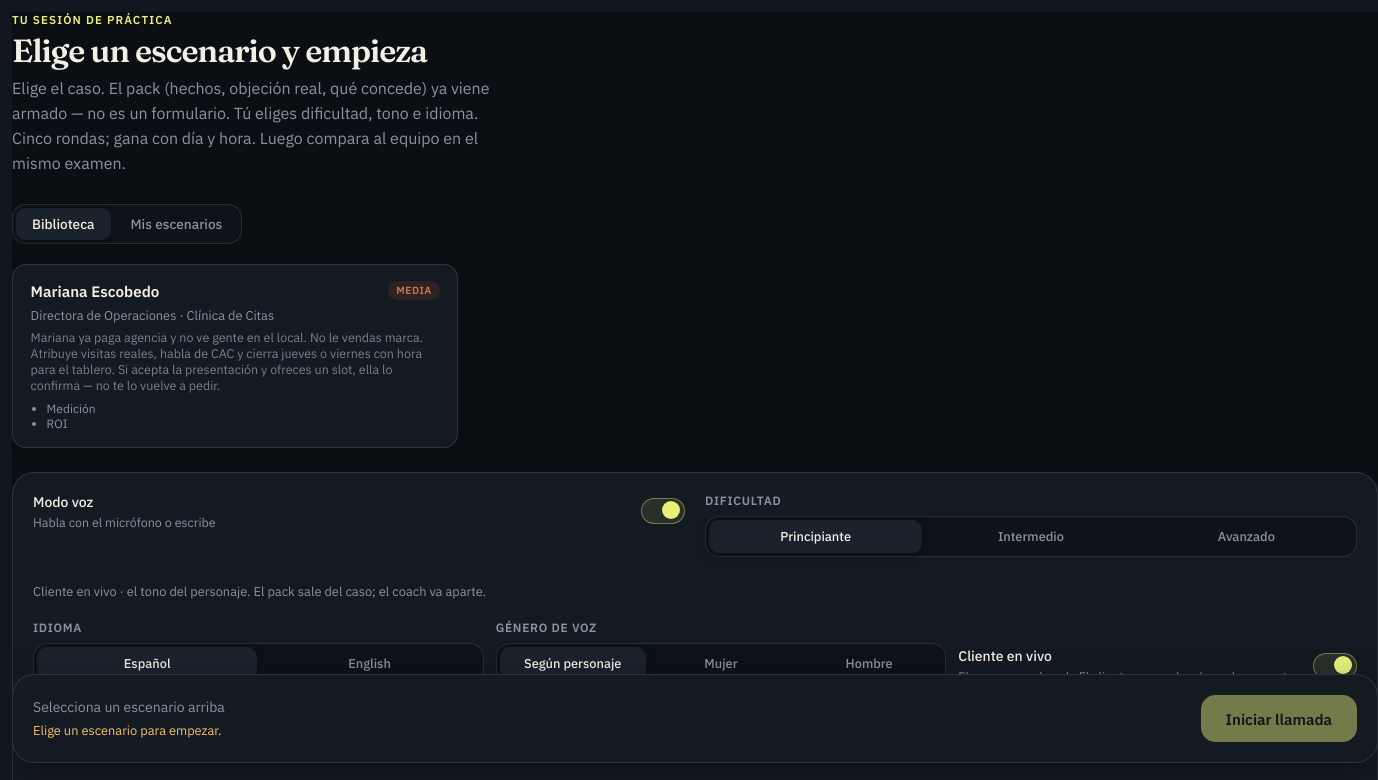
Test: ScenarioHub flow › stays on setup and shows a toast when voice-agent persist fails
This screenshot has width=1378, height=780.
What coordinates should you click on to do the following:
click the button "Mariana Escobedo"
I would click on:
 (235, 356)
Its box is [12, 264, 458, 448].
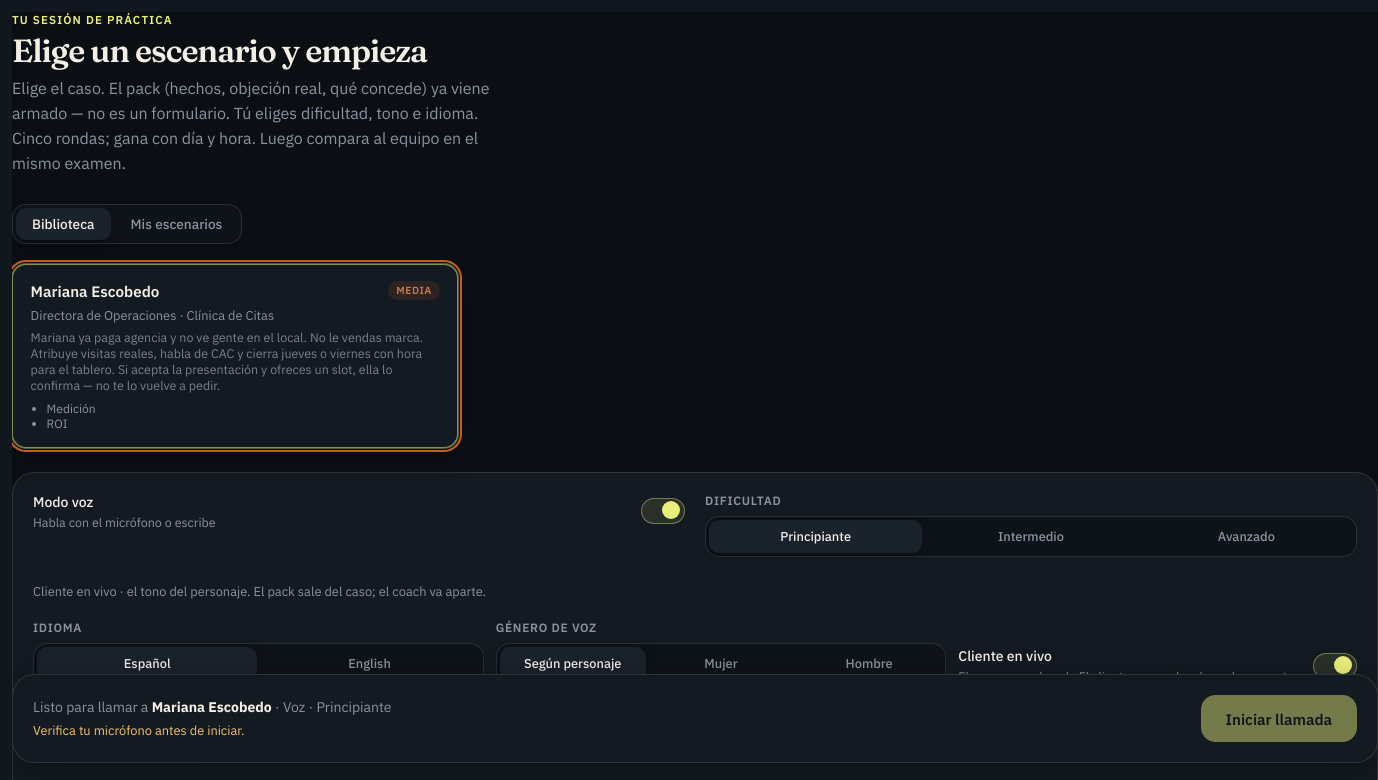
What coordinates should you click on to do the following:
click the switch labelled "Modo voz"
I would click on:
 (63, 502)
Its box is [33, 493, 685, 530].
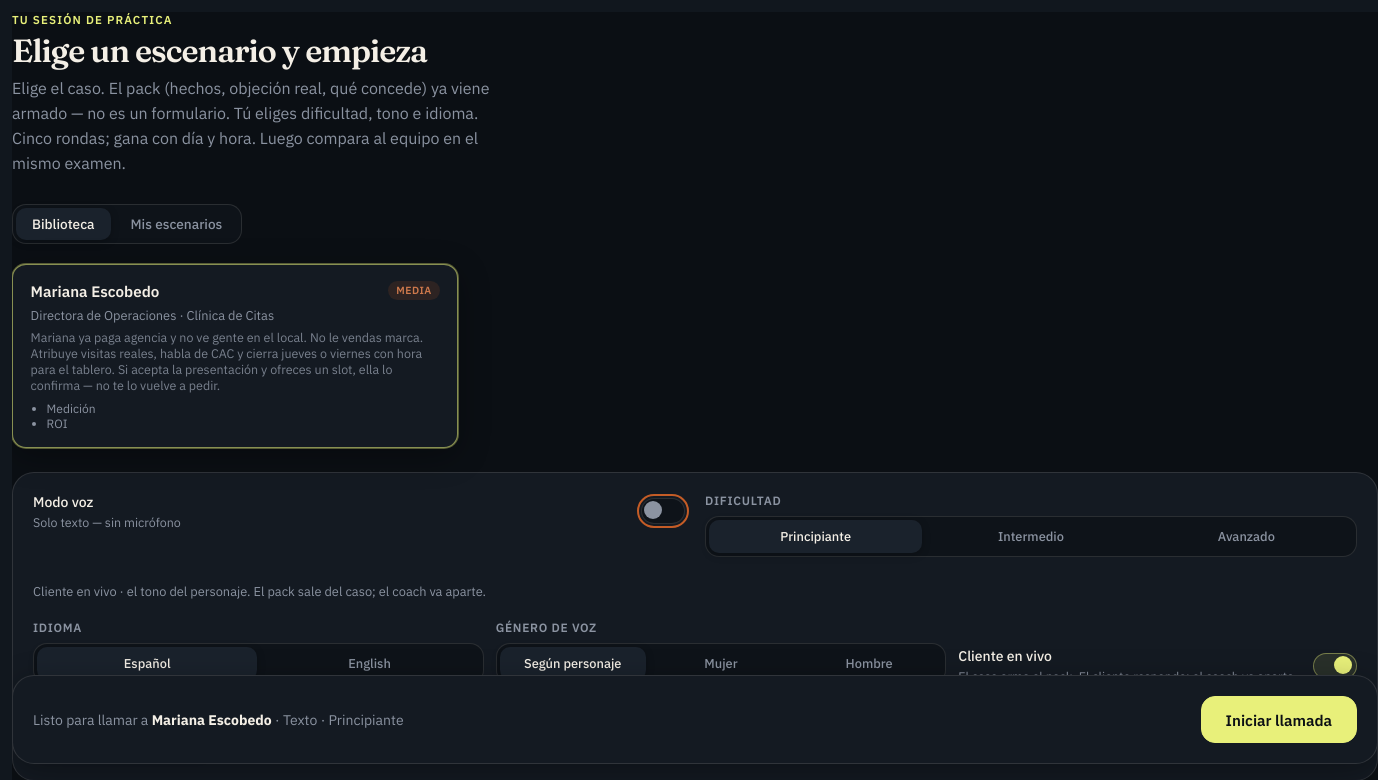
What coordinates should you click on to do the following:
click the button "Iniciar llamada"
I would click on:
 (1279, 719)
Its box is [1201, 695, 1357, 743].
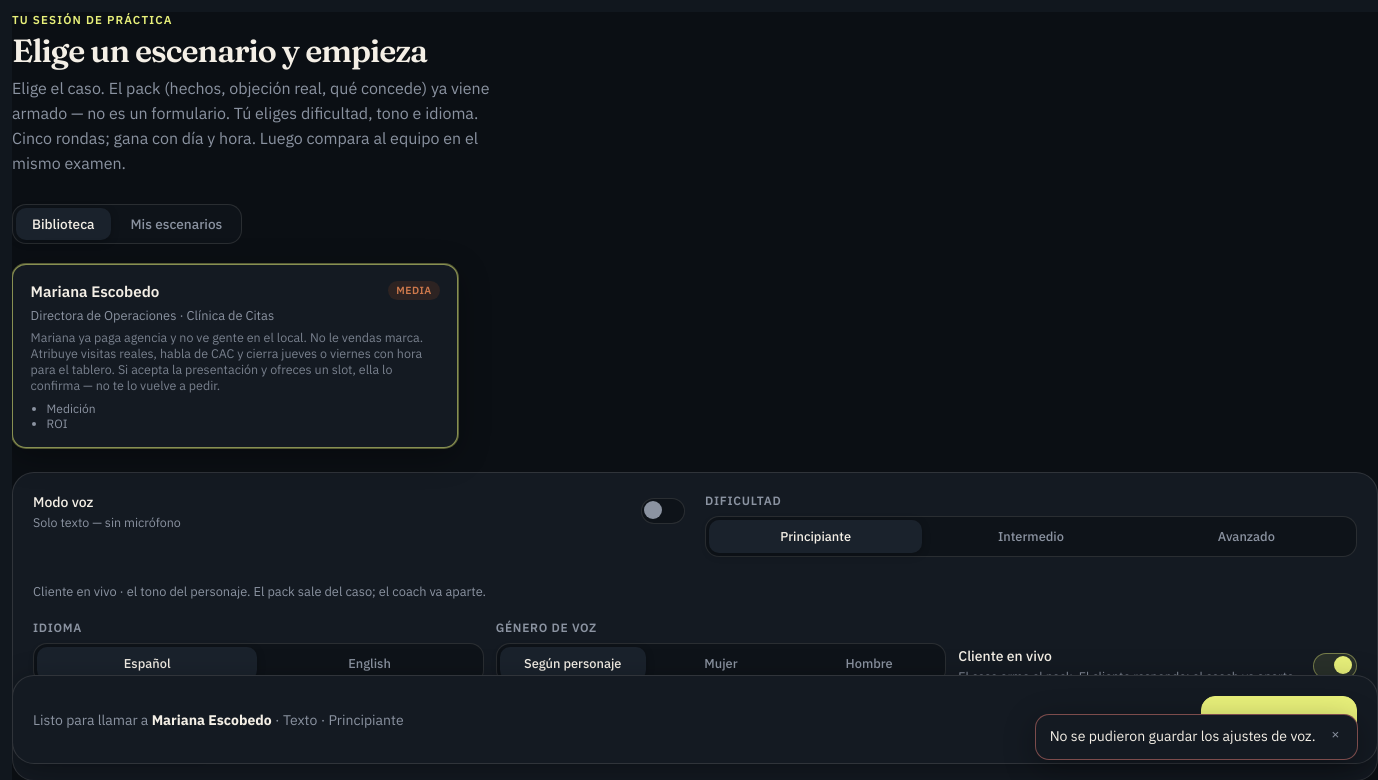
expect the heading "Elige un escenario y empieza" is shown: met, box [12, 31, 427, 70]
expect the text "No se pudieron guardar los ajustes de voz." is shown: met, box [1050, 727, 1316, 747]
